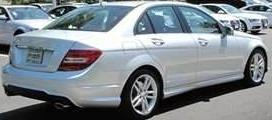back_view: (7, 40, 117, 111)
backlight: (57, 46, 108, 78)
side_glass: (148, 7, 223, 36)
